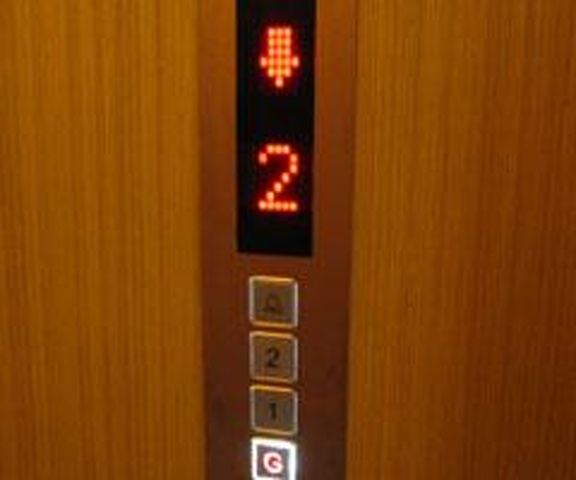1: (247, 382, 301, 437)
2: (246, 329, 300, 386)
G: (247, 435, 301, 480)
alarm: (246, 272, 302, 331)
led: (233, 1, 317, 261)
